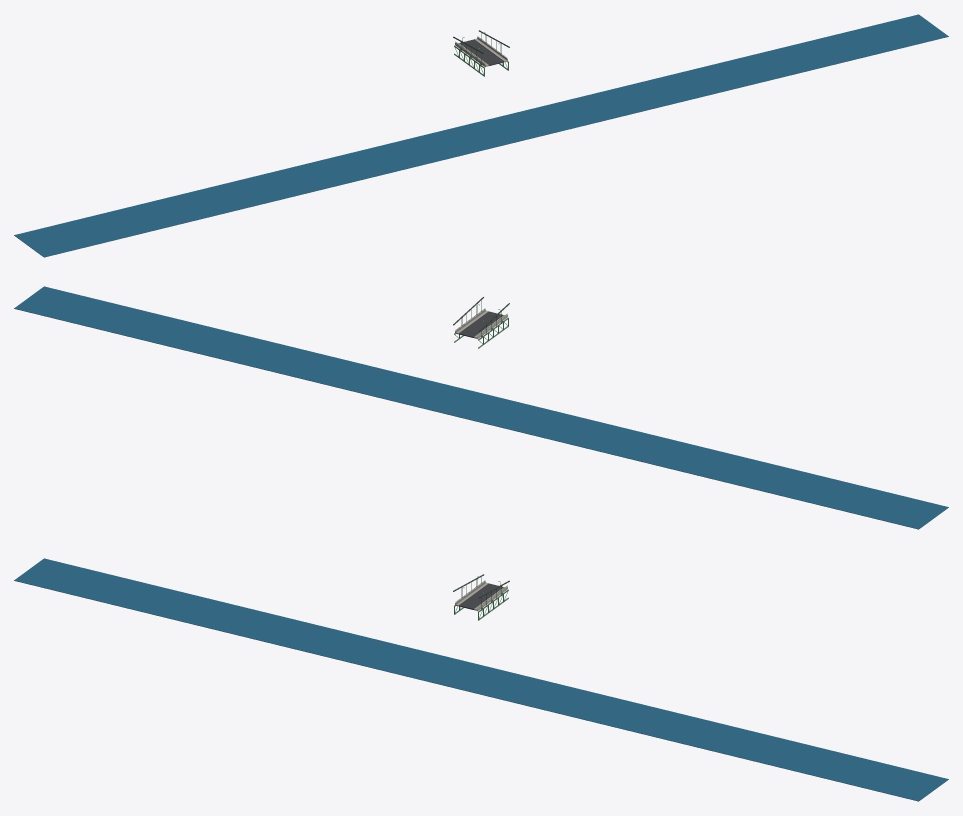
Rendered from puente_amb_4.glb.
3 views of the same model, one above another, from view 1: azimuth 30°, elevation 25°; view 2: azimuth 150°, elevation 25°; view 3: azimuth 330°, elevation 25° (orthographic).
Visible parts, largest first — view 1: puente_amb_4; view 2: puente_amb_4; view 3: puente_amb_4.
Boxes of the visible parts, left/top/right/bottom form: puente_amb_4: left=14, top=14, right=948, bottom=257; puente_amb_4: left=14, top=286, right=948, bottom=529; puente_amb_4: left=14, top=558, right=948, bottom=801.
Bounding box in the file's own units: 520 × 53.43 × 30.23.
Materials: 1 (1 with a texture image).
